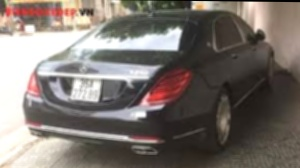Bien-so: (76, 78, 107, 103)
